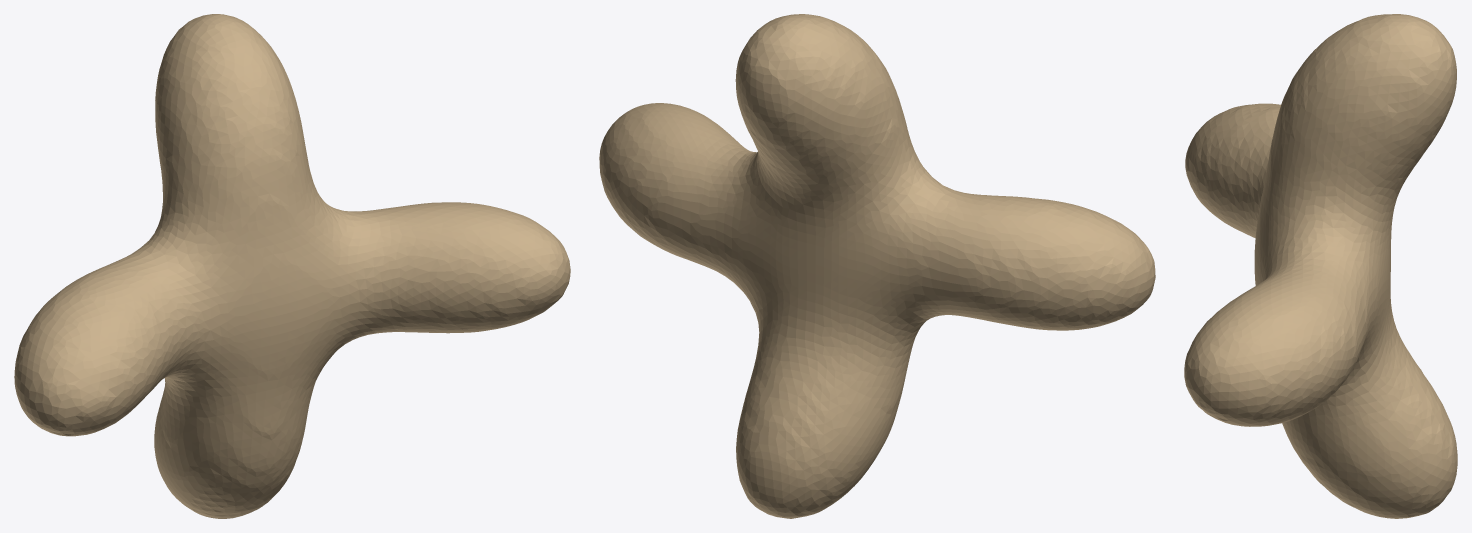
File: shagai_approx.glb
3 views of the same model, side by side, from view 1: azimuth 30°, elevation 25°; view 2: azimuth 150°, elevation 25°; view 3: azimuth 270°, elevation 25° (orthographic).
Parts seen in each view (by area): view 1: world; view 2: world; view 3: world.
Part boxes in pixels (x1,y1,x2,y2): world: (14, 14, 570, 518); world: (599, 14, 1155, 518); world: (1184, 14, 1457, 518).
Size of the model in its own units: 0.06 by 0.0526 by 0.0263.
